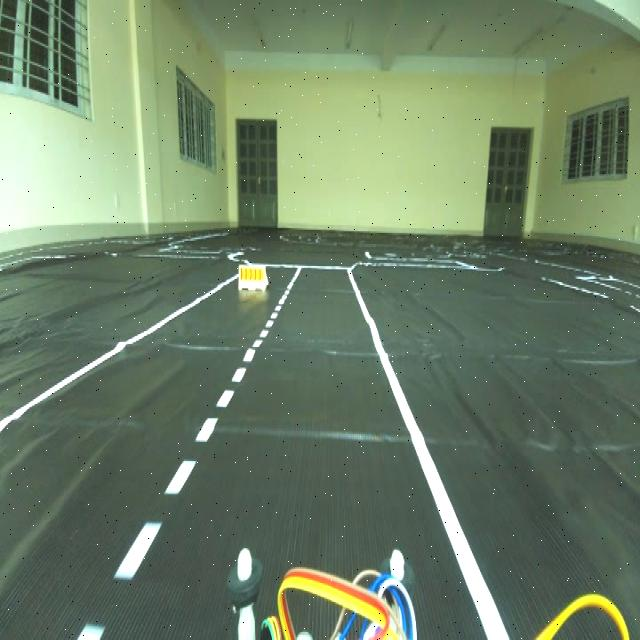roadblock: (234, 254, 271, 291)
